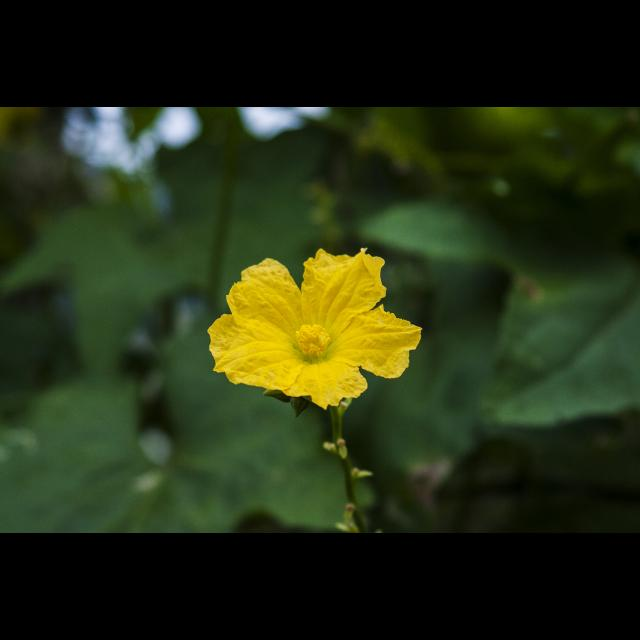Flower: (206, 246, 414, 418)
